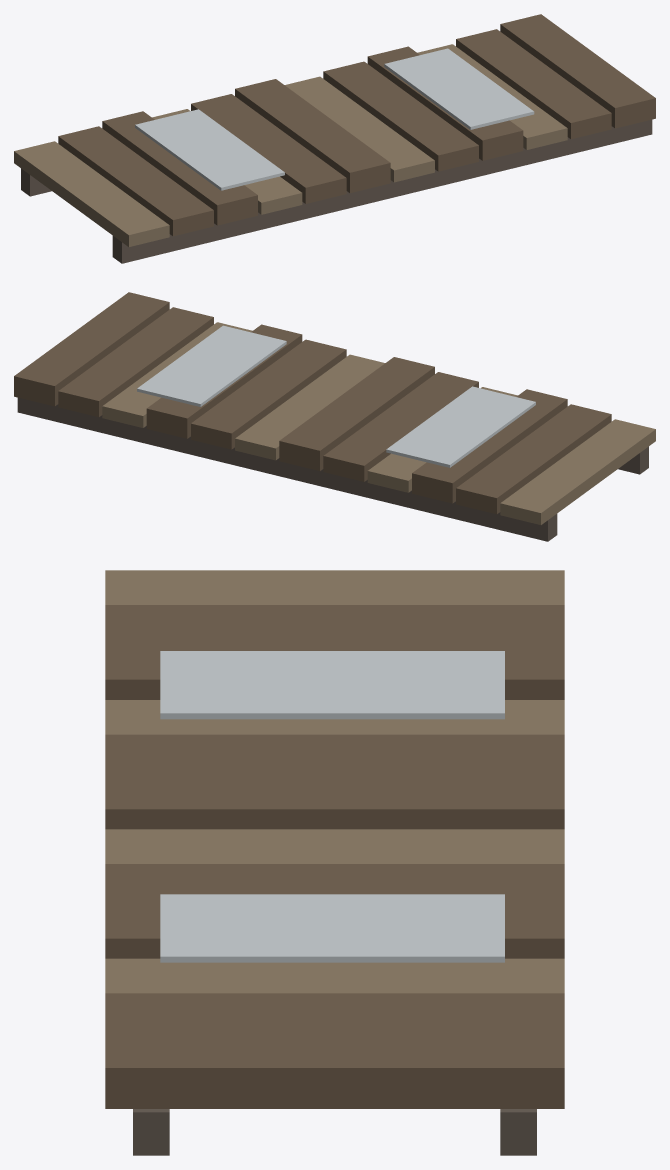
File: sunken_deck_section.glb
3 renders of one model, top to bottom at view 1: azimuth 30°, elevation 25°; view 2: azimuth 150°, elevation 25°; view 3: azimuth 270°, elevation 25°, orthographic. The views are drawn at different scales.
Parts seen in each view (by area): view 1: sunken_deck_section; view 2: sunken_deck_section; view 3: sunken_deck_section.
Boxes of the visible parts, left/top/right/bottom form: sunken_deck_section: left=14, top=14, right=655, bottom=263; sunken_deck_section: left=14, top=292, right=655, bottom=541; sunken_deck_section: left=105, top=570, right=564, bottom=1155.
Bounding box in the file's own units: 8 × 0.65 × 3.
